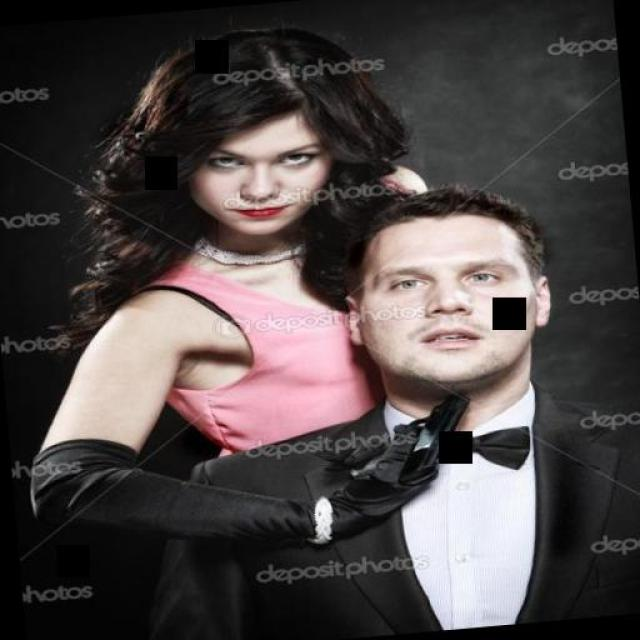gun: (322, 385, 486, 511)
